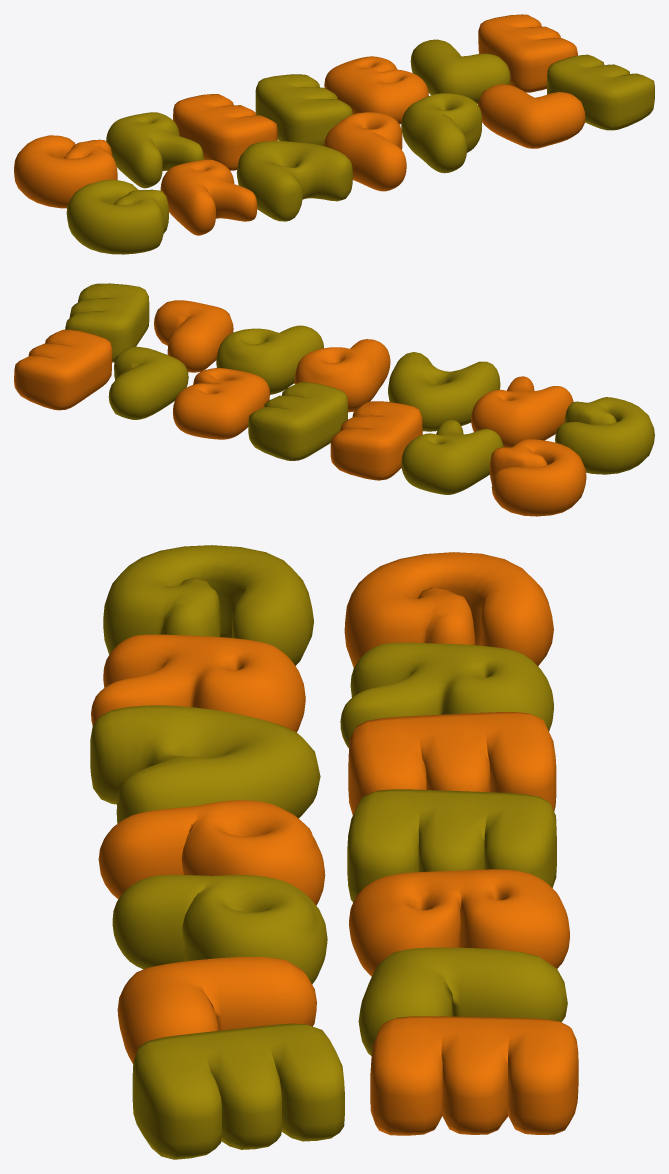
Rendered from Text_GreebleGrapple.fbx.
3 views of the same model, one above another, from view 1: azimuth 30°, elevation 25°; view 2: azimuth 150°, elevation 25°; view 3: azimuth 270°, elevation 25° (orthographic). The views are drawn at different scales.
Visible parts, largest first — view 1: A3, G2, E12, G1, L4, R7, P4, E9, E10, R6, E11, P3 (+2 smaller); view 2: G1, E11, E10, G2, A3, E9, R6, B4, R7, P4, L3, E12 (+2 smaller); view 3: E12, E11, A3, G2, G1, E10, P4, B4, E9, P3, R7, R6 (+2 smaller).
Boxes of the visible parts, left/top/right/bottom form: A3: left=236, top=141, right=352, bottom=221; G2: left=66, top=179, right=168, bottom=254; E12: left=547, top=54, right=654, bottom=130; G1: left=14, top=135, right=117, bottom=208; L4: left=478, top=84, right=585, bottom=148; R7: left=160, top=159, right=257, bottom=235; P4: left=401, top=93, right=481, bottom=173; E9: left=173, top=94, right=277, bottom=170; E10: left=255, top=74, right=352, bottom=145; R6: left=106, top=112, right=203, bottom=188; E11: left=478, top=14, right=577, bottom=92; P3: left=324, top=112, right=406, bottom=191; G1: left=489, top=439, right=586, bottom=516; E11: left=14, top=329, right=112, bottom=410; E10: left=248, top=382, right=347, bottom=460; G2: left=555, top=397, right=654, bottom=474; A3: left=388, top=352, right=500, bottom=431; E9: left=330, top=401, right=422, bottom=480; R6: left=401, top=420, right=503, bottom=494; B4: left=172, top=368, right=269, bottom=439; R7: left=471, top=376, right=573, bottom=447; P4: left=216, top=325, right=323, bottom=394; L3: left=108, top=346, right=188, bottom=419; E12: left=65, top=283, right=149, bottom=362; E12: left=132, top=1023, right=344, bottom=1159; E11: left=370, top=1016, right=578, bottom=1135; A3: left=90, top=705, right=320, bottom=823; G2: left=103, top=545, right=313, bottom=665; G1: left=344, top=552, right=553, bottom=667; E10: left=347, top=789, right=556, bottom=902; P4: left=112, top=874, right=327, bottom=984; B4: left=349, top=869, right=569, bottom=976; E9: left=348, top=712, right=556, bottom=815; P3: left=98, top=800, right=325, bottom=905; R7: left=91, top=634, right=305, bottom=732; R6: left=340, top=642, right=553, bottom=747.
Size of the model in its own units: 122 by 10.15 by 45.18.
